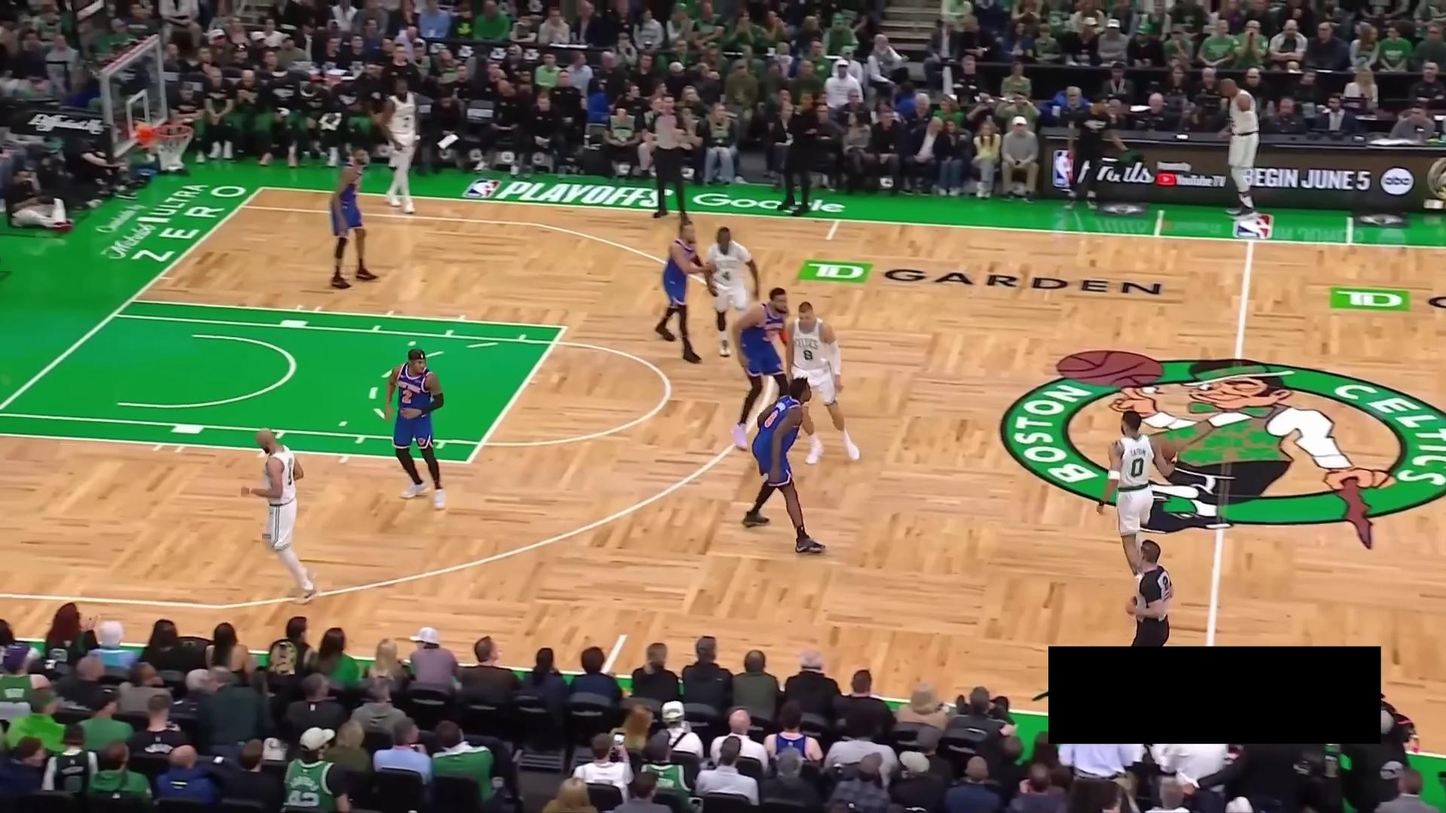number: (764, 409, 779, 428), (1130, 458, 1144, 477), (401, 389, 413, 404), (802, 348, 814, 362), (721, 269, 732, 283), (402, 116, 412, 129)
player: (740, 378, 828, 554), (239, 427, 320, 606), (782, 300, 862, 465), (729, 286, 792, 452), (384, 347, 448, 510), (654, 219, 718, 364), (703, 225, 761, 360), (328, 145, 380, 290), (377, 76, 426, 215)
player-in-possession: (1097, 409, 1178, 595)
referee: (644, 93, 692, 227), (1124, 538, 1173, 646)
rim: (151, 123, 195, 139)
